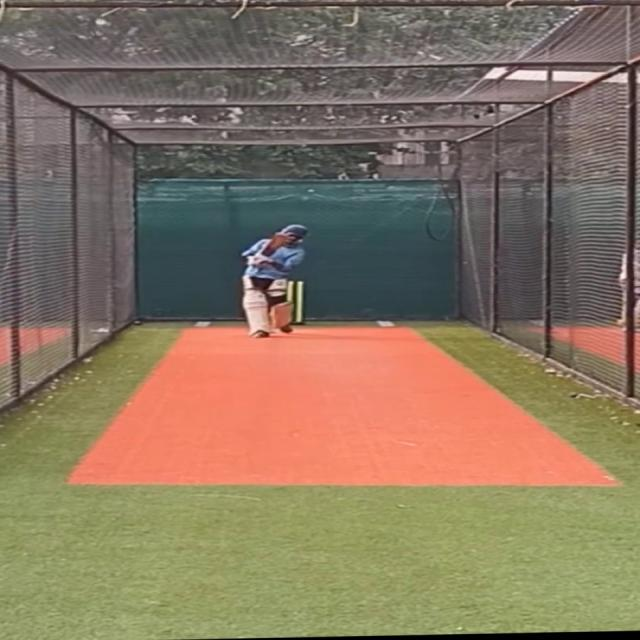stump: (286, 278, 308, 325)
